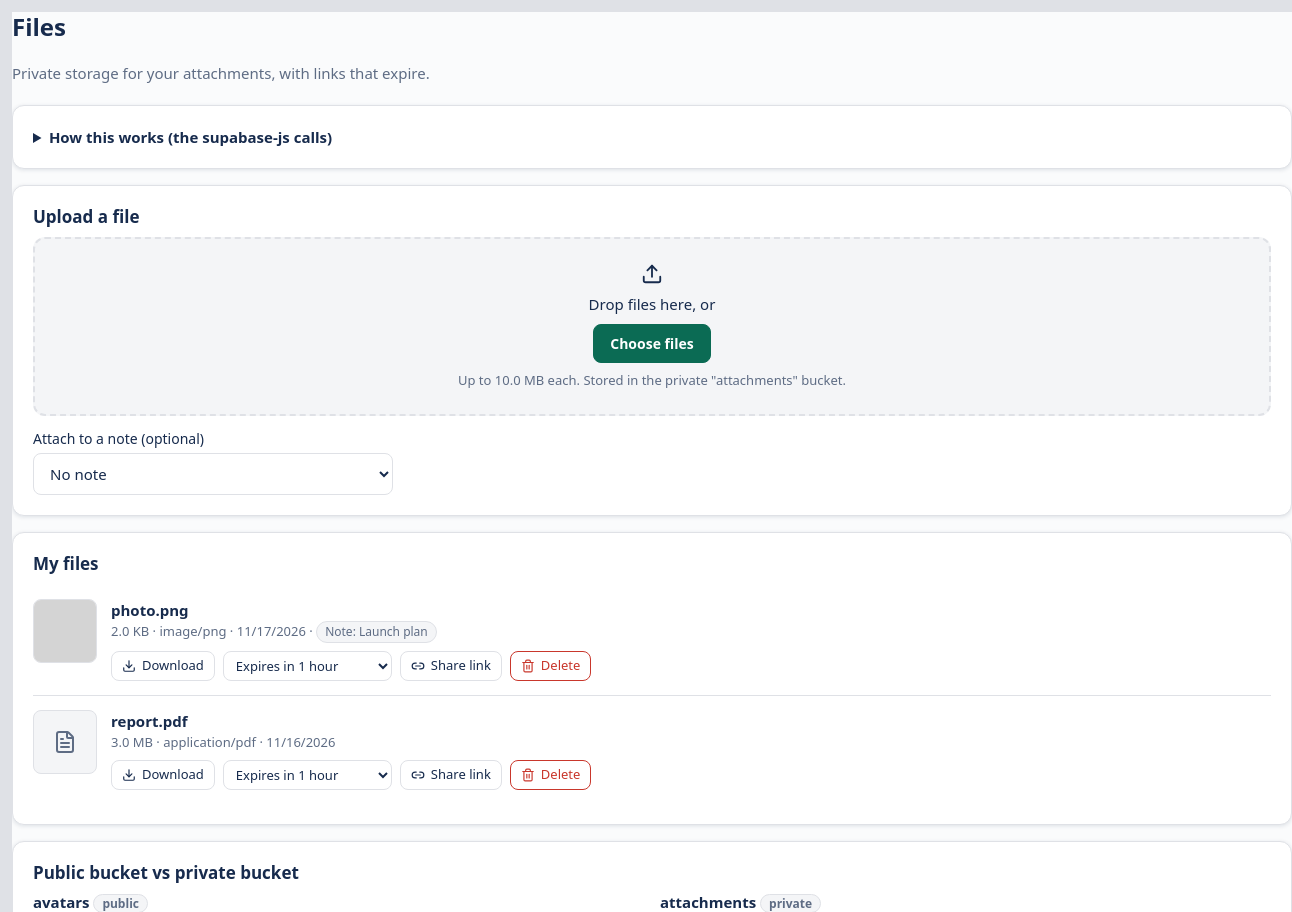
FilesPage › shows an error toast when the download fails
The width and height of the screenshot is (1292, 912).
Click the button "Download" below "2.0 KB" at (163, 666), box [111,651,215,681]
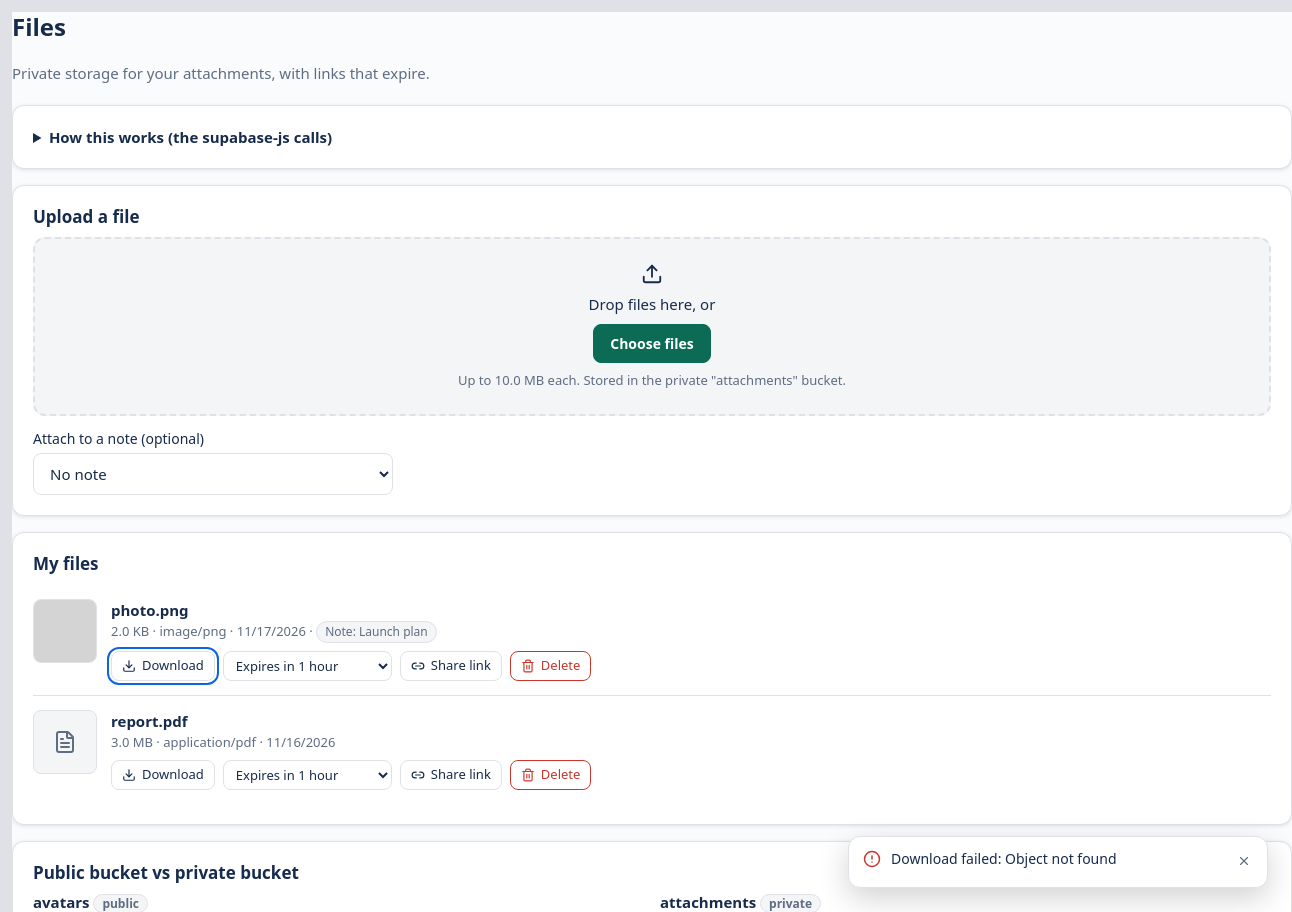
Now the text "Download failed: Object not found" is shown, box [891,849,1116,868]
